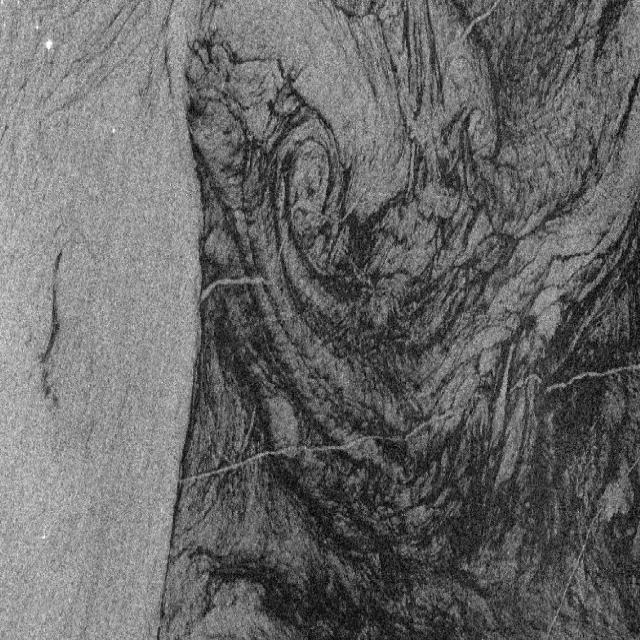look-alike: (174, 6, 636, 630), (29, 250, 88, 416)
